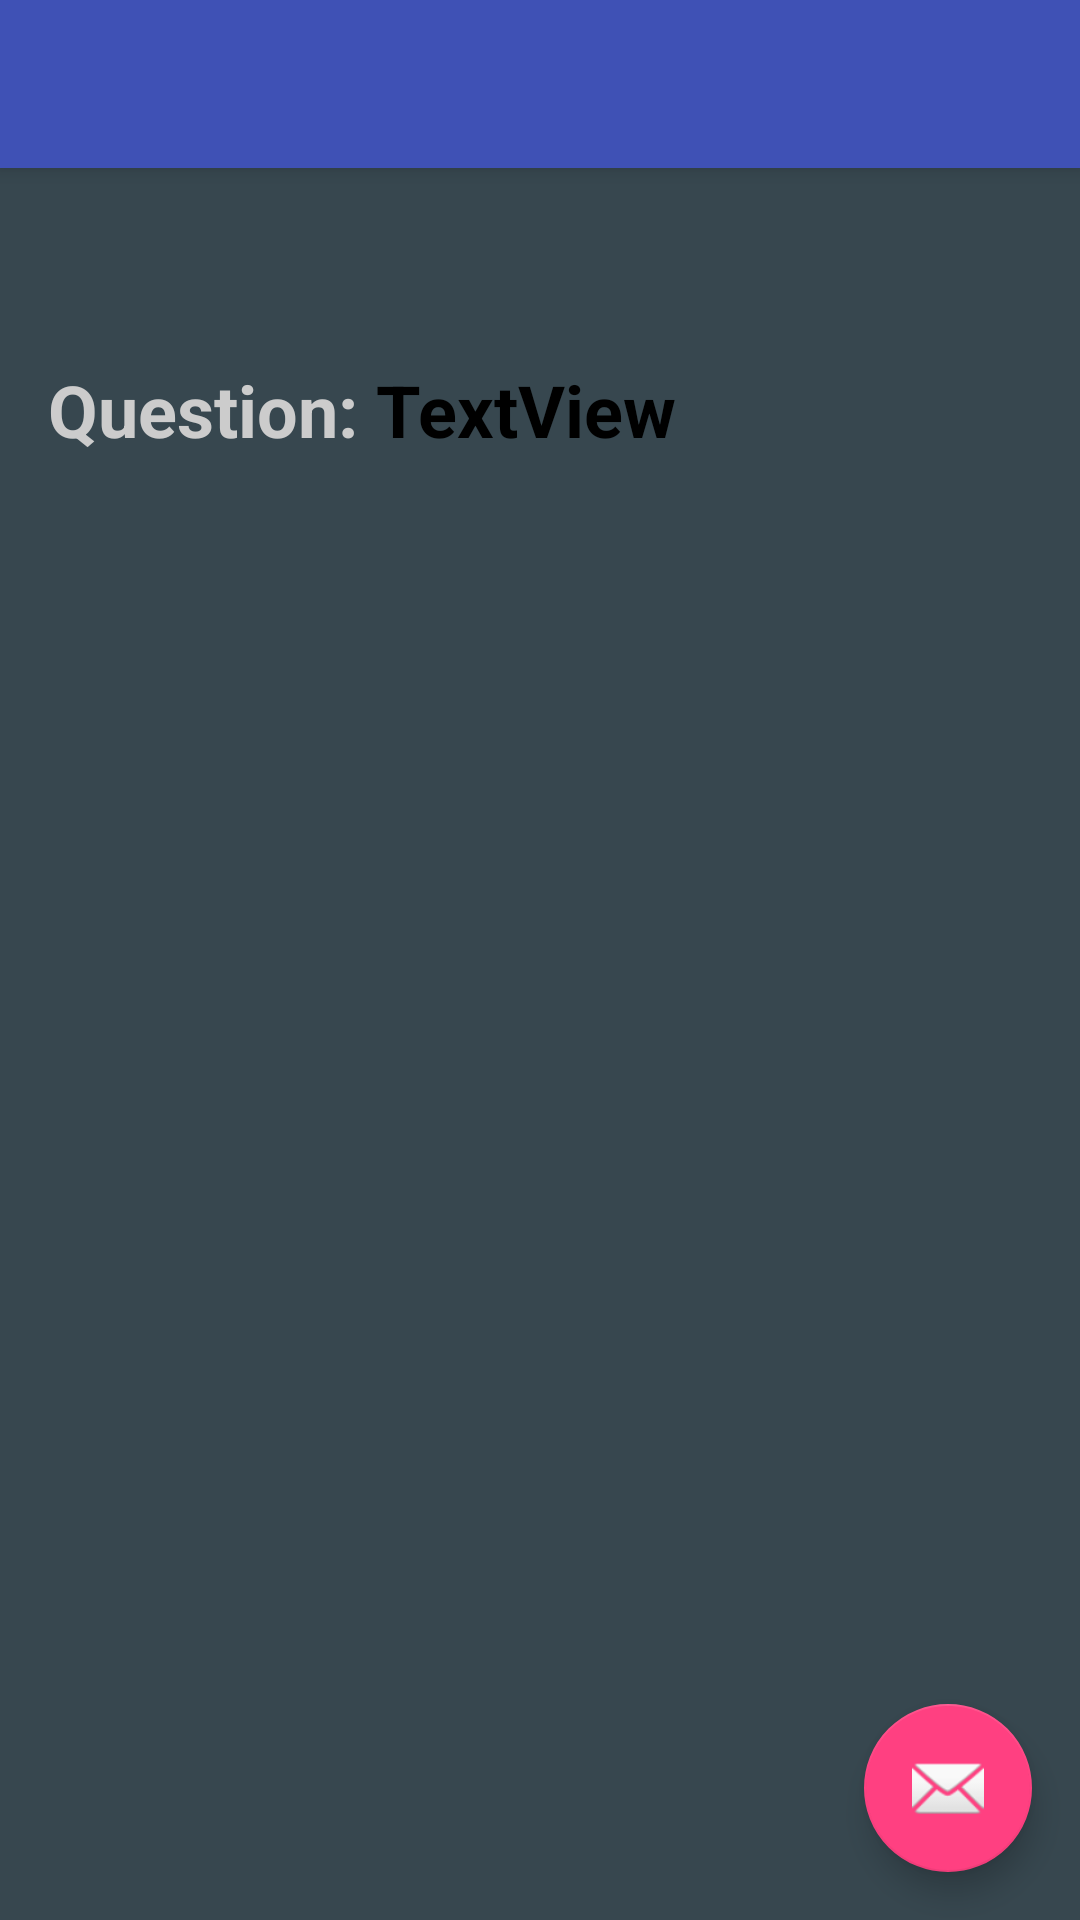

Where icons sit on this 1080*1920 app screen, as bbox=[x1, y1, x2, y2]:
email: bbox=[864, 1704, 1032, 1872]
